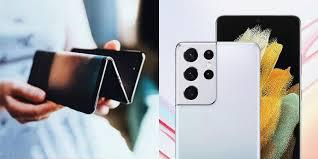Hand: (1, 80, 62, 127), (98, 31, 127, 120)
Smartphone: (217, 17, 298, 159), (179, 40, 259, 159), (32, 50, 142, 103)
